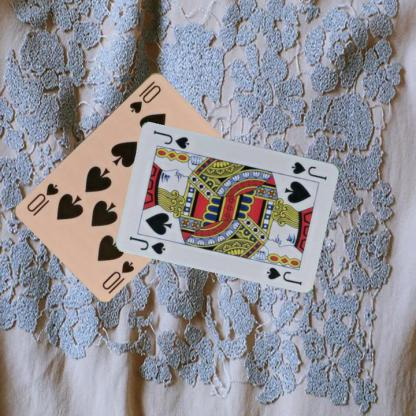10s: (127, 78, 162, 114), (99, 257, 136, 291)
Js: (127, 233, 167, 256), (289, 159, 329, 181)
